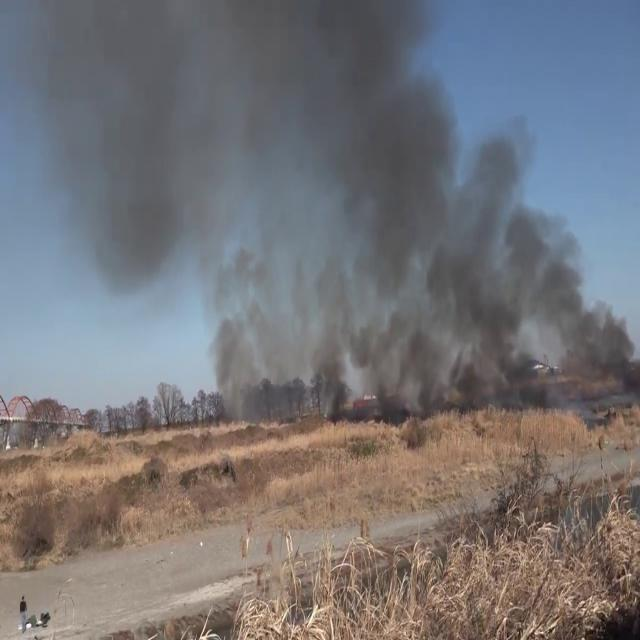Smoke: (320, 0, 640, 397), (0, 0, 351, 327)
